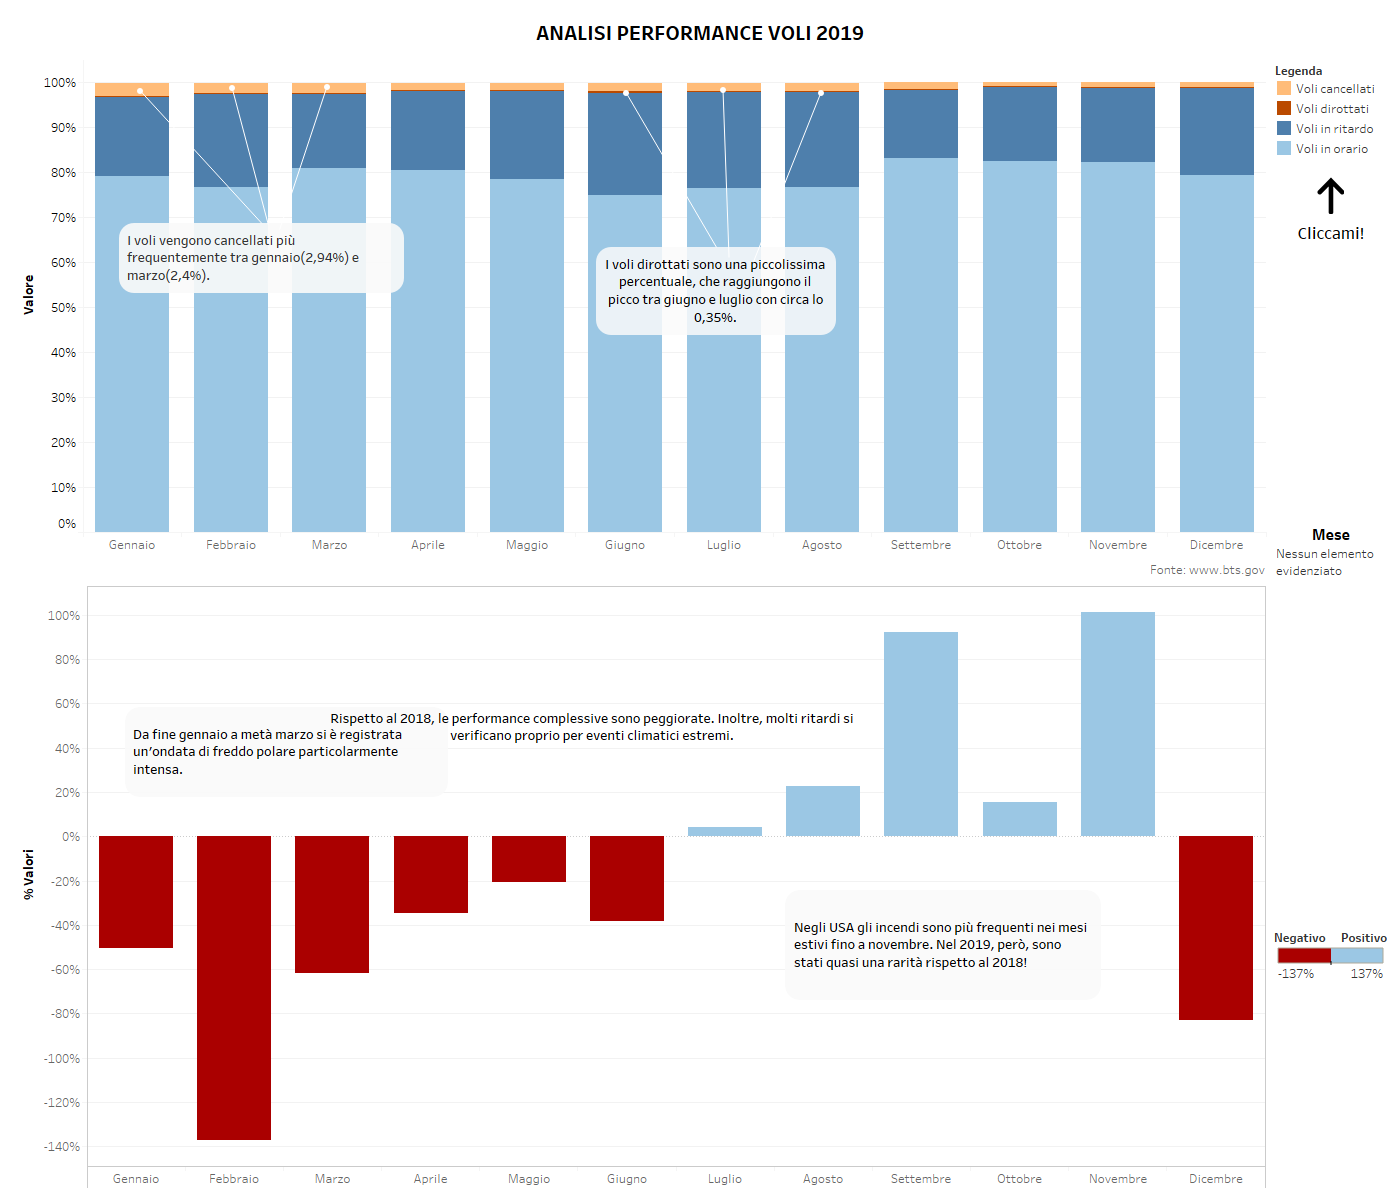

This screenshot's page, from the dashboard's own definition file:
{"tool":"tableau","page":{"name":"Dashboard3","canvas":[1280,1024],"ordinal":3},"visuals":[{"type":"worksheet","box":[0,0,1280,1024]},{"type":"worksheet","box":[8,8,1264,40.8]},{"type":"worksheet","param":"vert","box":[8,48.8,1264,967.2]},{"type":"worksheet","param":"horz","box":[8,48.8,1264,967.2]},{"type":"worksheet","param":"horz","box":[8,48.8,1142,967.2]},{"type":"worksheet","box":[8,48.8,1142,967.2]},{"type":"worksheet","param":"vert","box":[8,48.8,1142,967.2]},{"type":"worksheet","param":"vert","box":[8,48.8,1142,526]},{"type":"worksheet","param":"vert","box":[8,48.8,1142,526]},{"type":"worksheet","title":"performance_2019","mark":"Bar","cols":["MONTH"],"box":[8,48.8,1142,526]},{"type":"worksheet","param":"vert","box":[1150,48.8,122,967.2]},{"type":"worksheet","title":"performance_2019","mark":"Bar","cols":["MONTH"],"param":"[federated.0pieon81nj26g817genev0jxk5vg].[:Measure Names]","box":[1150,48.8,122,117]},{"type":"worksheet","param":"D:/UNI/DataScience/1anno/Semestre_1/Data Visualization/Progetto/arrow.png","box":[1150,165.8,122,45]},{"type":"worksheet","box":[1150,210.8,122,36]},{"type":"worksheet","box":[1150,246.8,122,271]},{"type":"worksheet","title":"2019vs2018","mark":"Automatic","cols":["YEAR","MONTH"],"param":"[federated.0pieon81nj26g817genev0jxk5vg].[none:MONTH:nk]","box":[1150,517.8,122,402]},{"type":"worksheet","title":"2019vs2018","mark":"Automatic","cols":["YEAR","MONTH"],"box":[8,574.8,1142,441.2]},{"type":"worksheet","box":[292,584,499,72]},{"type":"worksheet","title":"2019vs2018","mark":"Automatic","cols":["YEAR","MONTH"],"param":"[federated.0pieon81nj26g817genev0jxk5vg].[usr:Calculation_723953671705354270:qk:","box":[1150,919.8,122,47]}]}

Visuals, with their boxes on the page's 1280x1024 design canvas (x1, y1, x2, y2). These are canvas units, not pixel positions in the 1400x1200 screenshot, which may show the page scaled, cropped or inside an application window:
worksheet: 0, 0, 1280, 1024
worksheet: 8, 8, 1272, 49
worksheet: 8, 49, 1272, 1016
worksheet: 8, 49, 1272, 1016
worksheet: 8, 49, 1150, 1016
worksheet: 8, 49, 1150, 1016
worksheet: 8, 49, 1150, 1016
worksheet: 8, 49, 1150, 575
worksheet: 8, 49, 1150, 575
"performance_2019" worksheet (Bar marks): 8, 49, 1150, 575
worksheet: 1150, 49, 1272, 1016
"performance_2019" worksheet (Bar marks): 1150, 49, 1272, 166
worksheet: 1150, 166, 1272, 211
worksheet: 1150, 211, 1272, 247
worksheet: 1150, 247, 1272, 518
"2019vs2018" worksheet: 1150, 518, 1272, 920
"2019vs2018" worksheet: 8, 575, 1150, 1016
worksheet: 292, 584, 791, 656
"2019vs2018" worksheet: 1150, 920, 1272, 967
